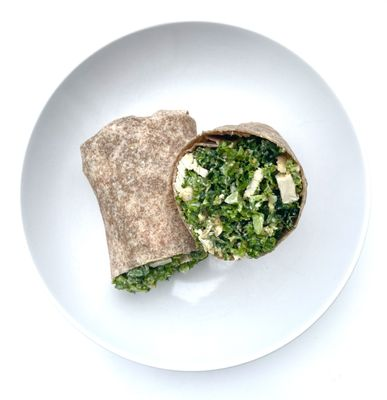curry: (175, 135, 302, 261)
soup: (80, 110, 209, 293)
